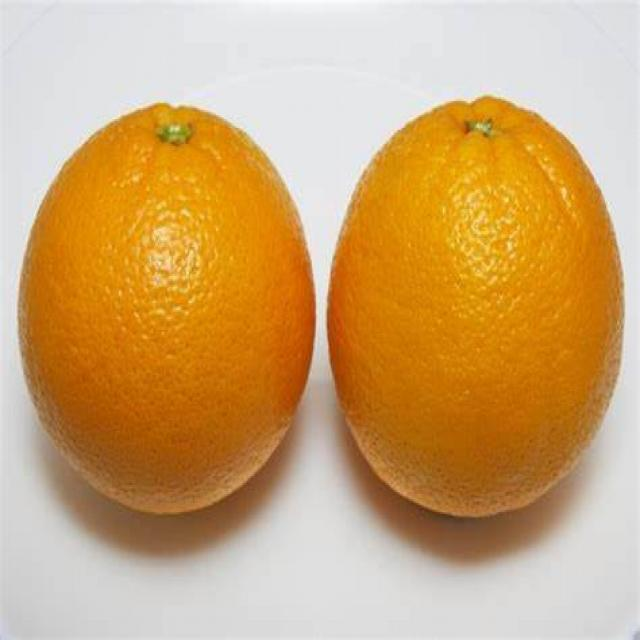Orange: (328, 92, 626, 520), (20, 102, 317, 518)
